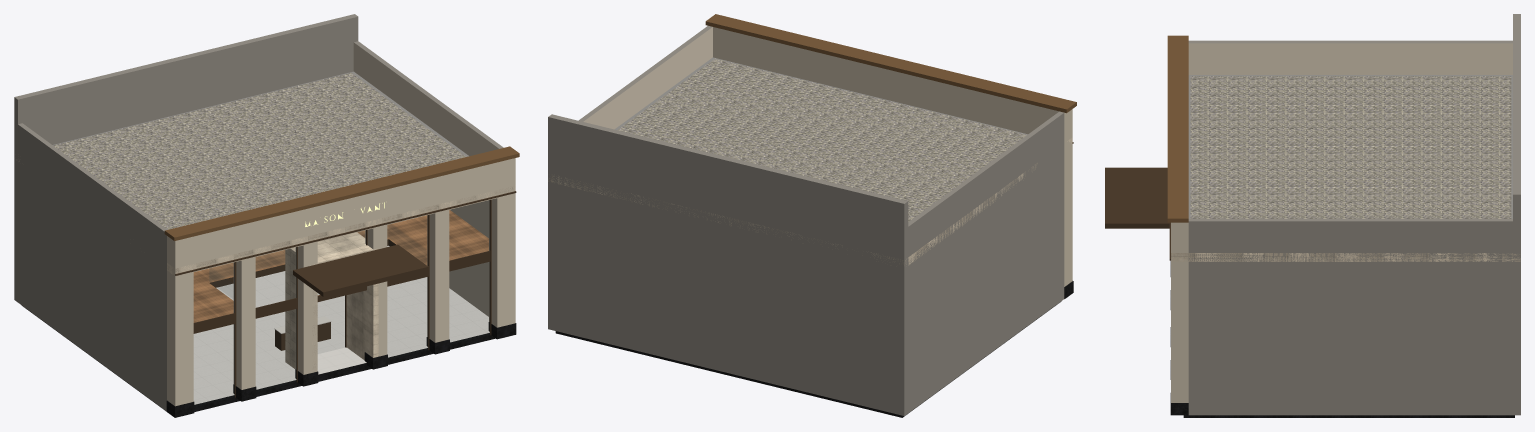
File: maison_levant_LOD2.fbx
3 renders of one model, left to right at view 1: azimuth 30°, elevation 25°; view 2: azimuth 150°, elevation 25°; view 3: azimuth 270°, elevation 25°, orthographic. The views are drawn at different scales.
Visible parts, largest first — view 1: B01_LOD2_BUILDING_EXTERIOR_Stone, B01_LOD2_BUILDING_EXTERIOR_Roof, B01_LOD2_BUILDING_EXTERIOR_RearInterface, B01_LOD2_BUILDING_INTERIOR_GroundSlab, B01_LOD2_FACADE_DETAILS_Bronze, B01_LOD2_BUILDING_INTERIOR_Slabs, B01_LOD2_GLASS_SYSTEM_Bay0Frame, B01_LOD2_GLASS_SYSTEM_Bay3Frame, B01_LOD2_GLASS_SYSTEM_Bay1Frame, B01_LOD2_GLASS_SYSTEM_Bay2Frame, B01_LOD2_FURNITURE_Dining; view 2: B01_LOD2_BUILDING_EXTERIOR_Stone, B01_LOD2_BUILDING_EXTERIOR_RearInterface, B01_LOD2_BUILDING_EXTERIOR_Roof, B01_LOD2_FACADE_DETAILS_Bronze, B01_LOD2_BUILDING_INTERIOR_GroundSlab; view 3: B01_LOD2_BUILDING_EXTERIOR_Stone, B01_LOD2_BUILDING_EXTERIOR_Roof, B01_LOD2_FACADE_DETAILS_Bronze, B01_LOD2_BUILDING_EXTERIOR_RearInterface, B01_LOD2_BUILDING_INTERIOR_GroundSlab.
Part boxes in pixels (<box>): B01_LOD2_BUILDING_EXTERIOR_Stone: <box>14,41,516,417</box>; B01_LOD2_BUILDING_EXTERIOR_Roof: <box>16,71,515,276</box>; B01_LOD2_BUILDING_EXTERIOR_RearInterface: <box>14,14,358,301</box>; B01_LOD2_BUILDING_INTERIOR_GroundSlab: <box>23,245,495,411</box>; B01_LOD2_FACADE_DETAILS_Bronze: <box>164,146,519,296</box>; B01_LOD2_BUILDING_INTERIOR_Slabs: <box>193,210,488,322</box>; B01_LOD2_GLASS_SYSTEM_Bay0Frame: <box>193,262,236,397</box>; B01_LOD2_GLASS_SYSTEM_Bay3Frame: <box>449,199,491,335</box>; B01_LOD2_GLASS_SYSTEM_Bay1Frame: <box>255,247,297,382</box>; B01_LOD2_GLASS_SYSTEM_Bay2Frame: <box>387,214,429,350</box>; B01_LOD2_FURNITURE_Dining: <box>274,316,331,350</box>; B01_LOD2_BUILDING_EXTERIOR_Stone: <box>548,25,1073,415</box>; B01_LOD2_BUILDING_EXTERIOR_RearInterface: <box>548,114,908,414</box>; B01_LOD2_BUILDING_EXTERIOR_Roof: <box>548,57,1072,266</box>; B01_LOD2_FACADE_DETAILS_Bronze: <box>705,14,1076,143</box>; B01_LOD2_BUILDING_INTERIOR_GroundSlab: <box>555,301,1061,417</box>; B01_LOD2_BUILDING_EXTERIOR_Stone: <box>1170,40,1520,415</box>; B01_LOD2_BUILDING_EXTERIOR_Roof: <box>1171,75,1520,261</box>; B01_LOD2_FACADE_DETAILS_Bronze: <box>1105,35,1188,260</box>; B01_LOD2_BUILDING_EXTERIOR_RearInterface: <box>1513,14,1520,414</box>; B01_LOD2_BUILDING_INTERIOR_GroundSlab: <box>1183,415,1514,417</box>.
Size of the model in its own units: 22.3 by 21.4 by 12.82.
